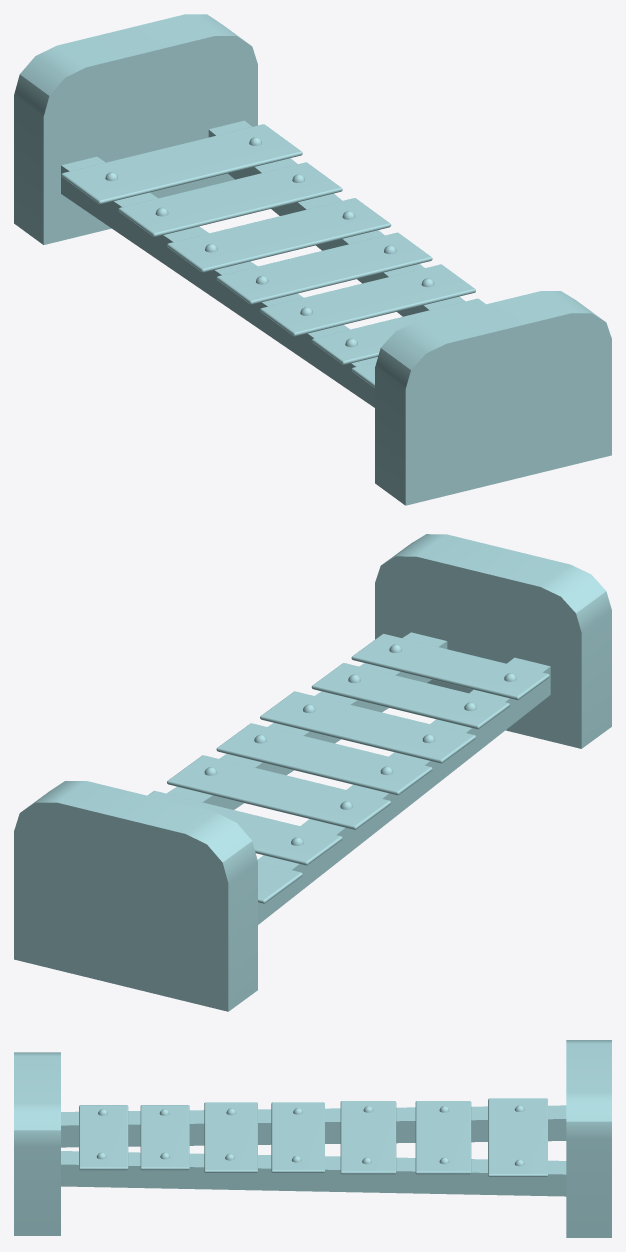
The model's file is SM_xylophone.fbx.
3 renders of one model, top to bottom at view 1: azimuth 30°, elevation 25°; view 2: azimuth 150°, elevation 25°; view 3: azimuth 270°, elevation 25°, orthographic. The views are drawn at different scales.
Parts seen in each view (by area): view 1: SM_xylophone; view 2: SM_xylophone; view 3: SM_xylophone.
Boxes of the visible parts, x1,y1,x2,y2 form: SM_xylophone: [14, 14, 611, 505]; SM_xylophone: [14, 534, 611, 1011]; SM_xylophone: [14, 1040, 611, 1237].
Size of what is drawn, in the model's own units: 7.88 by 5.88 by 24.65.
